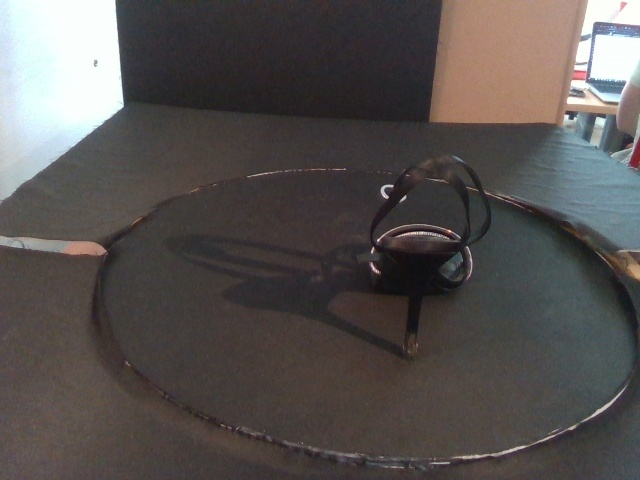shoe: (368, 154, 492, 361)
